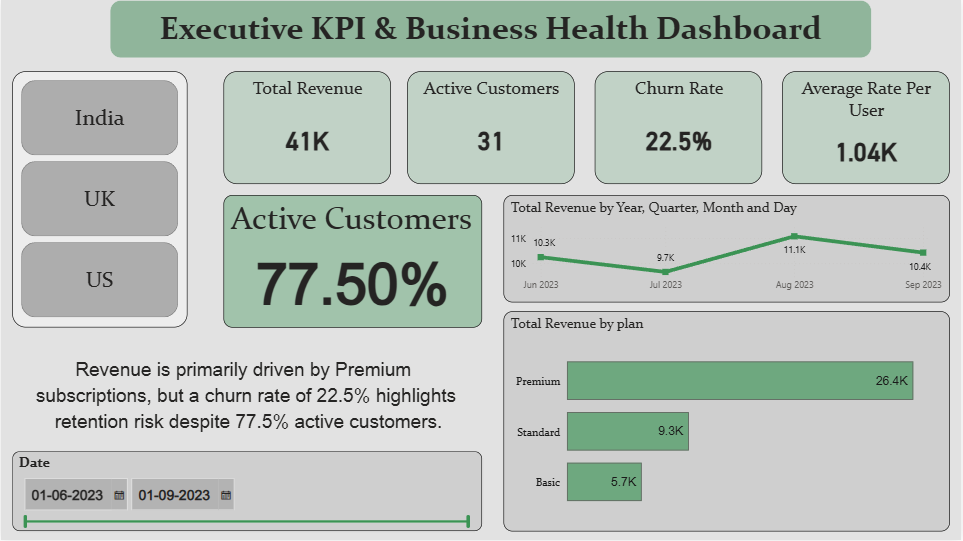

The page's visual inventory and layout, read from the dashboard file:
{"tool":"powerbi","page":{"name":"Page 1","canvas":[1280,720],"ordinal":0},"visuals":[{"type":"card","title":"Total Revenue","fields":{"Values":["business_KPI_data.Total Revenue"]},"box":[296.7,95,223,150],"z":0},{"type":"card","title":"Active Customers","fields":{"Values":["business_KPI_data.Active Customers"]},"box":[541.7,95,223.3,150],"z":1000},{"type":"card","title":"Churn Rate                                                                                                                                                                          ","fields":{"Values":["business_KPI_data.Churn Rate"]},"box":[791.7,95,223.3,150],"z":2000},{"type":"card","title":"Average Rate Per User","fields":{"Values":["business_KPI_data.Average Revenue Per User"]},"box":[1041.7,95,223.3,150],"z":3000},{"type":"textbox","box":[145.8,0,1016.2,77.9],"z":4000},{"type":"slicer","title":"Date","fields":{"Values":["business_KPI_data.date"]},"box":[15,601.7,626.7,106.7],"z":5000},{"type":"advancedSlicerVisual","fields":{"Values":["business_KPI_data.region"]},"box":[15,95.4,264.5,340.9],"z":6000},{"type":"card","title":"Active Customers","fields":{"Values":["business_KPI_data.Active %"]},"box":[296.7,260,345,176.7],"z":7000},{"type":"lineChart","fields":{"Y":["business_KPI_data.Total Revenue"],"Category":["business_KPI_data.date.Variation.Date Hierarchy.Year","business_KPI_data.date.Variation.Date Hierarchy.Quarter","business_KPI_data.date.Variation.Date Hierarchy.Month","business_KPI_data.date.Variation.Date Hierarchy.Day"]},"box":[654.5,260.4,610.8,143.2],"z":8000},{"type":"clusteredBarChart","fields":{"Category":["business_KPI_data.plan"],"Y":["business_KPI_data.Total Revenue"]},"box":[654.5,414.5,610.8,294.5],"z":9000},{"type":"card","fields":{"Values":["business_KPI_data.Executive Insight"]},"box":[13.3,448.3,626.7,140],"z":10000}]}

Visuals, with their boxes in screenshot pixels (x1, y1, x2, y2), scaled from the page's 1280x720 canvas onto the 963x541 screenshot:
"Total Revenue" card: {"left": 223, "top": 71, "right": 391, "bottom": 184}
"Active Customers" card: {"left": 408, "top": 71, "right": 576, "bottom": 184}
"Churn Rate                                                                                                                                                                          " card: {"left": 596, "top": 71, "right": 764, "bottom": 184}
"Average Rate Per User" card: {"left": 784, "top": 71, "right": 952, "bottom": 184}
textbox: {"left": 110, "top": 0, "right": 874, "bottom": 59}
"Date" slicer: {"left": 11, "top": 452, "right": 483, "bottom": 532}
advancedSlicerVisual - business_KPI_data.region: {"left": 11, "top": 72, "right": 210, "bottom": 328}
"Active Customers" card: {"left": 223, "top": 195, "right": 483, "bottom": 328}
lineChart - business_KPI_data.Total Revenue x business_KPI_data.date.Variation.Date Hierarchy.Year: {"left": 492, "top": 196, "right": 952, "bottom": 303}
clusteredBarChart - business_KPI_data.plan x business_KPI_data.Total Revenue: {"left": 492, "top": 311, "right": 952, "bottom": 533}
card - business_KPI_data.Executive Insight: {"left": 10, "top": 337, "right": 482, "bottom": 442}
